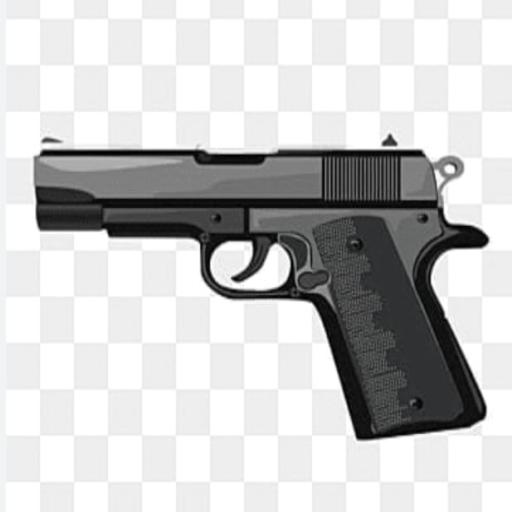Gun: (37, 136, 487, 437)
